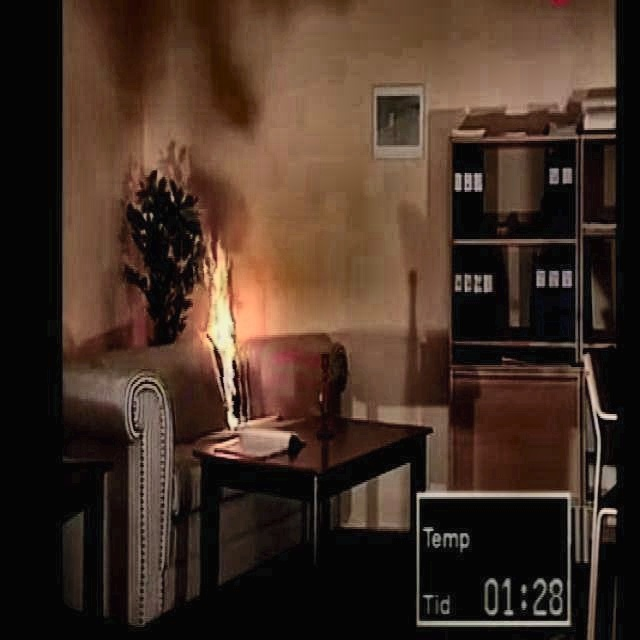fire: (200, 247, 254, 416)
